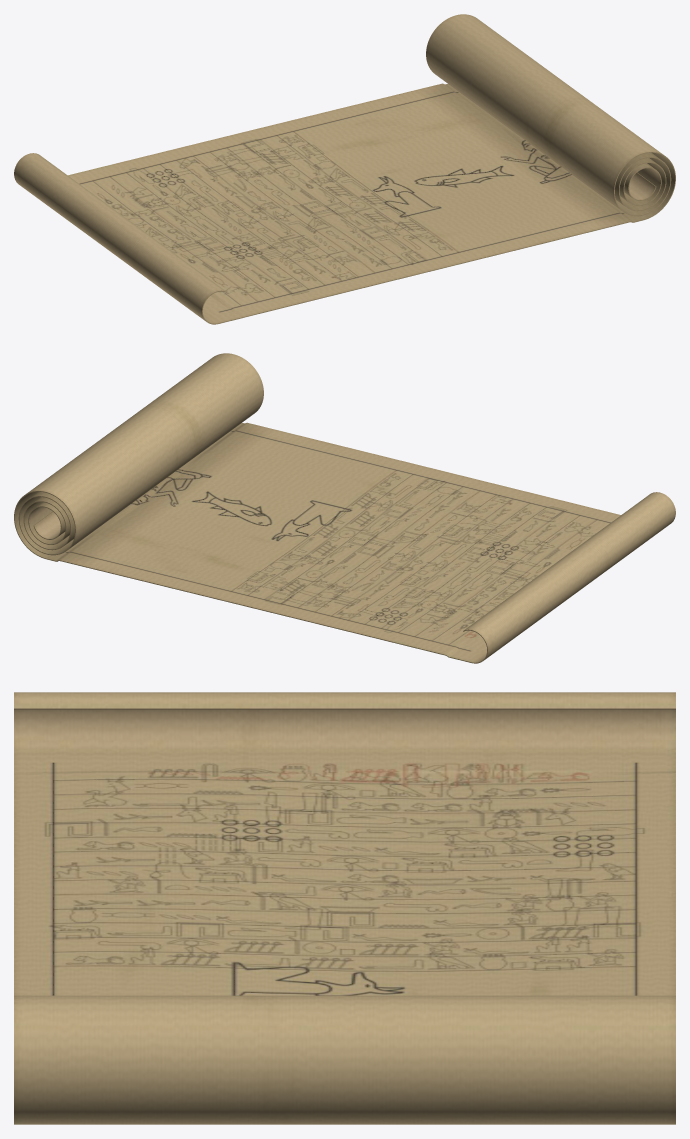
The model's file is papyrus_scroll.glb.
3 views of the same model, one above another, from view 1: azimuth 30°, elevation 25°; view 2: azimuth 150°, elevation 25°; view 3: azimuth 270°, elevation 25° (orthographic). The views are drawn at different scales.
Visible parts, largest first — view 1: papyrus_scroll; view 2: papyrus_scroll; view 3: papyrus_scroll.
Boxes of the visible parts, x1,y1,x2,y2 form: papyrus_scroll: [14, 14, 675, 324]; papyrus_scroll: [14, 353, 675, 663]; papyrus_scroll: [14, 692, 675, 1124].
Size of the model in its own units: 0.3783 by 0.0525 by 0.26.
1 material, 1 textured.
